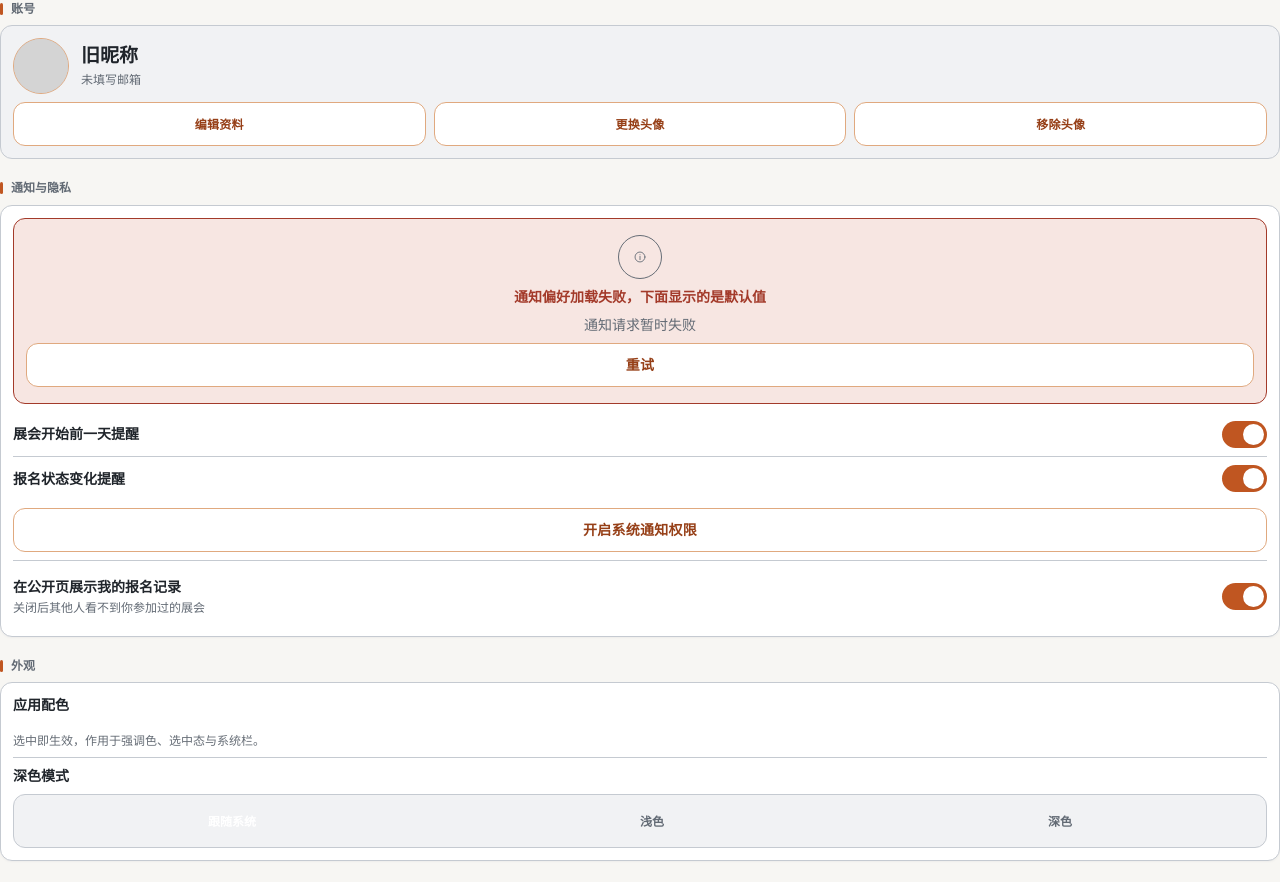
Scenario: 设置页独立取数状态 › 通知偏好失败时禁用其开关并可独立重试，资料仍然可以编辑
Expected: the button "编辑资料" is enabled, [13,102,426,146]
Expected: the checkbox with id "notify-reminder" is disabled, [1222,421,1267,448]
Click the button "重试".
click(640, 365)  # box [26,343,1254,387]
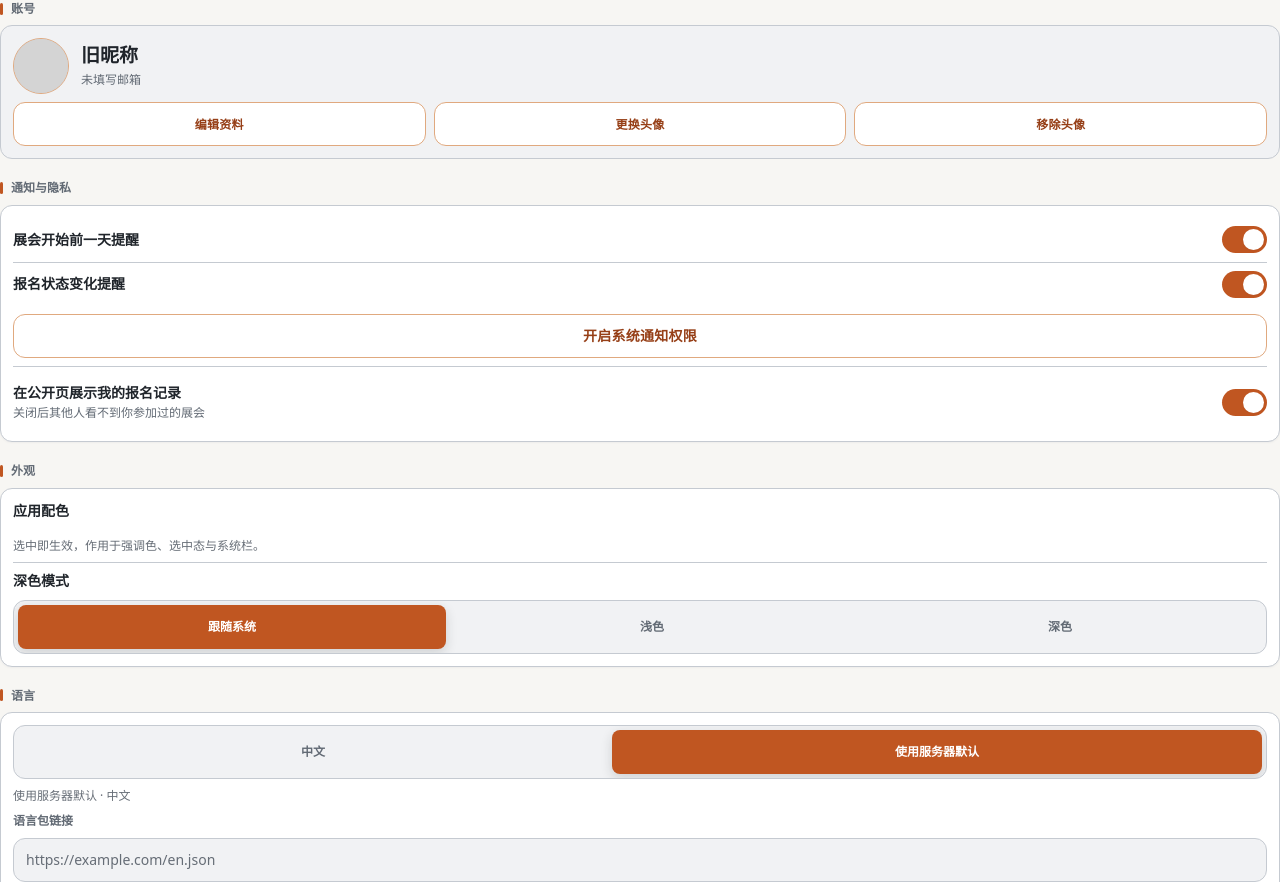
Now the checkbox with id "notify-reminder" is enabled, box [1222,226,1267,253]
